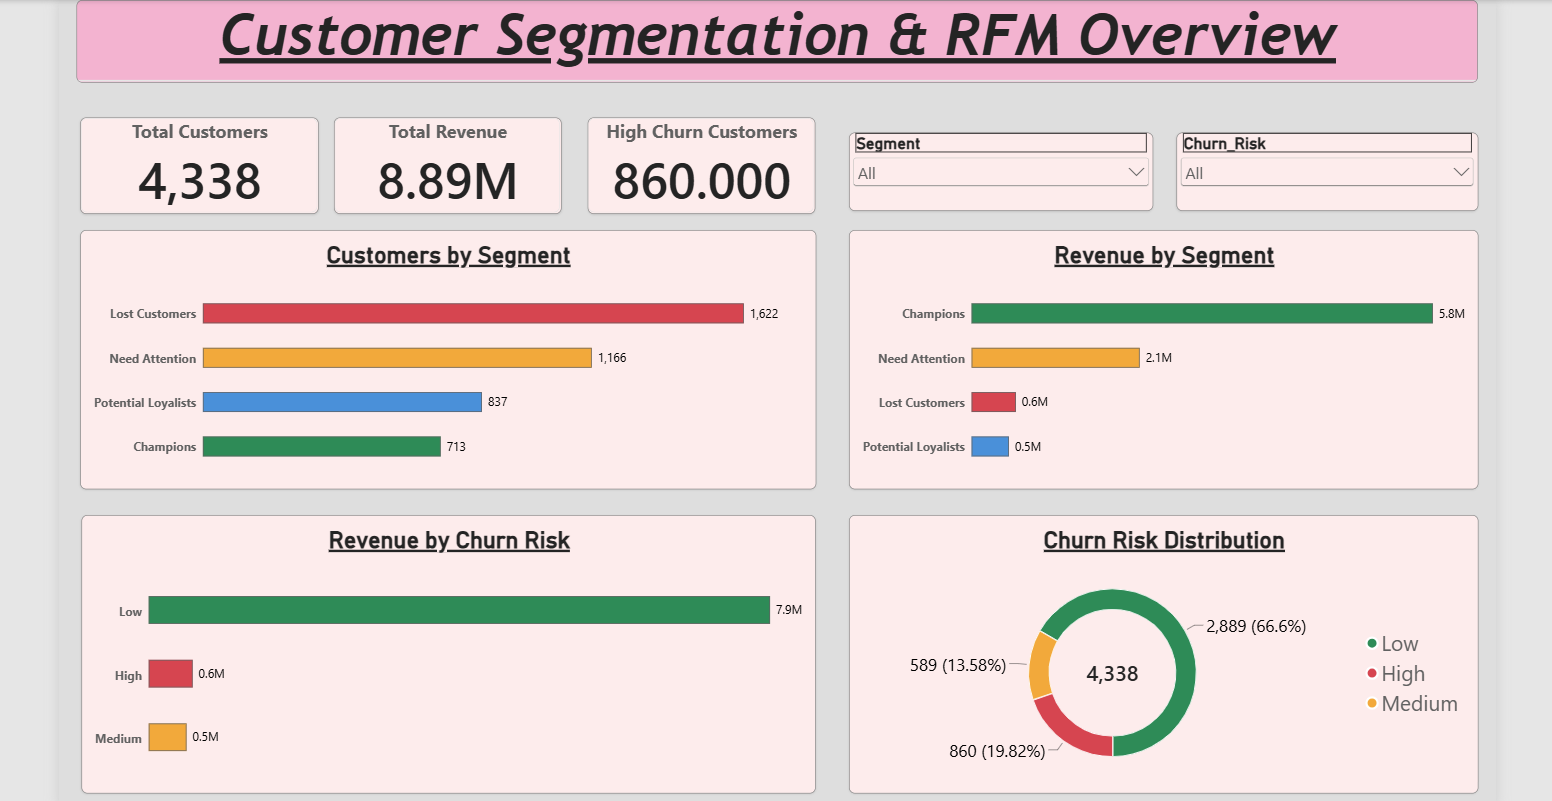

This screenshot's page, from the dashboard's own definition file:
{"tool":"powerbi","page":{"name":"1. Customer Segmentation Overview","canvas":[1920,1080],"ordinal":0},"visuals":[{"type":"cardVisual","fields":{"Data":["measures_table.Total Customers"]},"box":[27.6,156.4,318.4,128.8],"z":0},{"type":"cardVisual","fields":{"Data":["measures_table.Total Revenue"]},"box":[368.1,156.4,303.7,128.8],"z":1000},{"type":"cardVisual","fields":{"Data":["measures_table.High Churn Customers"]},"box":[706.8,156.4,303.7,128.8],"z":3000},{"type":"barChart","title":"Customers by Segment","fields":{"Category":["final_rfm_customer_segmentation.Segment"],"Y":["measures_table.Total Customers"]},"box":[27.6,307.4,982.8,346],"z":4000},{"type":"barChart","title":"Revenue by Segment","fields":{"Category":["final_rfm_customer_segmentation.Segment"],"Y":["measures_table.Total Revenue"]},"box":[1054.6,307.4,841.1,346],"z":5000},{"type":"barChart","title":"Revenue by Churn Risk","fields":{"Category":["final_rfm_customer_segmentation.Churn_Risk"],"Y":["measures_table.Total Revenue"]},"box":[29.4,688.3,981,371.8],"z":6000},{"type":"donutChart","title":"Churn Risk  Distribution","fields":{"Category":["final_rfm_customer_segmentation.Churn_Risk"],"Y":["measures_table.Total Customers"]},"box":[1054.6,688.3,841.1,371.8],"z":7000},{"type":"slicer","fields":{"Values":["final_rfm_customer_segmentation.Segment"]},"box":[1055.2,176.2,406.4,104.7],"z":8000},{"type":"slicer","fields":{"Values":["final_rfm_customer_segmentation.Churn_Risk"]},"box":[1493,176.2,402.9,104.7],"z":9000},{"type":"shape","title":"Customer Segmentation & RFM Overview","box":[23.9,0,1871.8,110.4],"z":10000}]}

Visuals, with their boxes on the page's 1920x1080 design canvas (x1, y1, x2, y2). These are canvas units, not pixel positions in the 1552x801 screenshot, which may show the page scaled, cropped or inside an application window:
cardVisual - measures_table.Total Customers: {"x1": 28, "y1": 156, "x2": 346, "y2": 285}
cardVisual - measures_table.Total Revenue: {"x1": 368, "y1": 156, "x2": 672, "y2": 285}
cardVisual - measures_table.High Churn Customers: {"x1": 707, "y1": 156, "x2": 1010, "y2": 285}
"Customers by Segment" barChart: {"x1": 28, "y1": 307, "x2": 1010, "y2": 653}
"Revenue by Segment" barChart: {"x1": 1055, "y1": 307, "x2": 1896, "y2": 653}
"Revenue by Churn Risk" barChart: {"x1": 29, "y1": 688, "x2": 1010, "y2": 1060}
"Churn Risk  Distribution" donutChart: {"x1": 1055, "y1": 688, "x2": 1896, "y2": 1060}
slicer - final_rfm_customer_segmentation.Segment: {"x1": 1055, "y1": 176, "x2": 1462, "y2": 281}
slicer - final_rfm_customer_segmentation.Churn_Risk: {"x1": 1493, "y1": 176, "x2": 1896, "y2": 281}
"Customer Segmentation & RFM Overview" shape: {"x1": 24, "y1": 0, "x2": 1896, "y2": 110}
